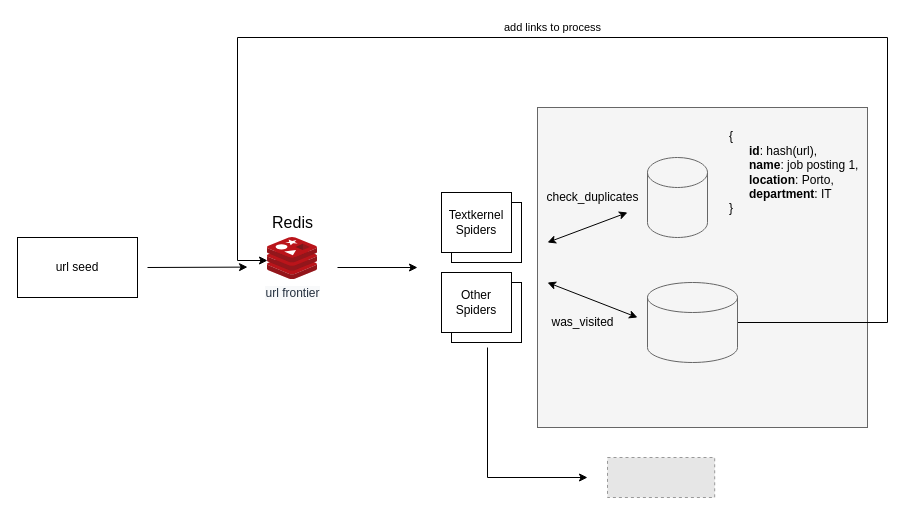
This 913x515 diagram has some shape labels left out. Grey dashed boxes stand in for pictures. Here are the shapes that lost their labels. From the top down, the centre of each, then its label:
At (x=677, y=197): "Jobs DB".
At (x=692, y=322): "VisitedWebsites DB".
